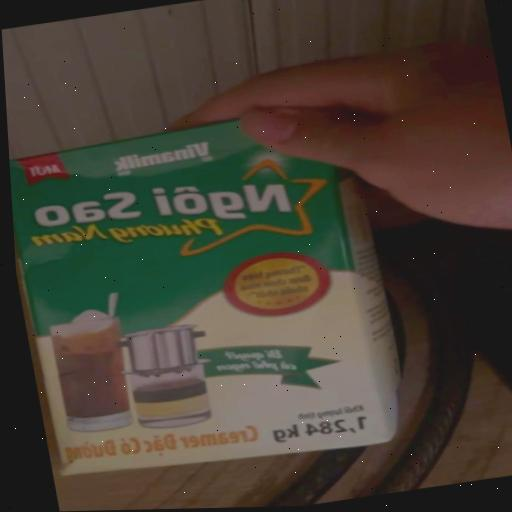ly_giay: (9, 122, 400, 474)
